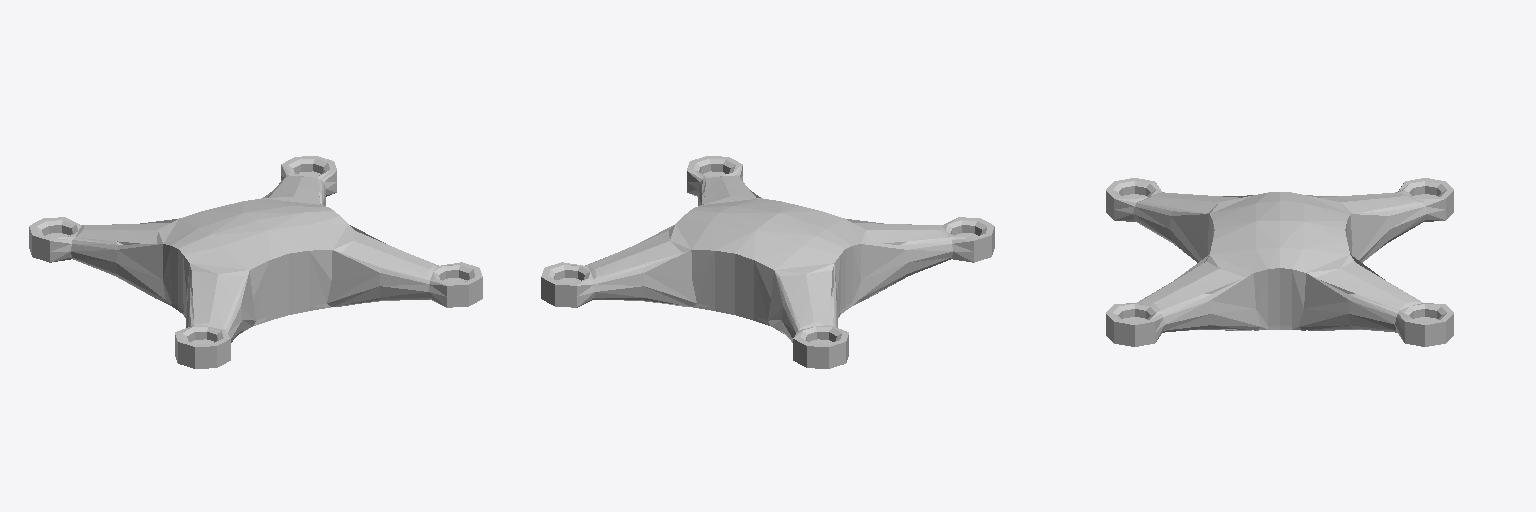
File: Drone.obj
3 views of the same model, side by side, from view 1: azimuth 30°, elevation 25°; view 2: azimuth 150°, elevation 25°; view 3: azimuth 270°, elevation 25° (orthographic).
Parts seen in each view (by area): view 1: Plane; view 2: Plane; view 3: Plane.
Boxes of the visible parts, <box> form: Plane: <box>29,156,482,368</box>; Plane: <box>541,156,994,368</box>; Plane: <box>1106,178,1453,346</box>.
Bounding box in the file's own units: 1.92 × 0.4313 × 1.92.